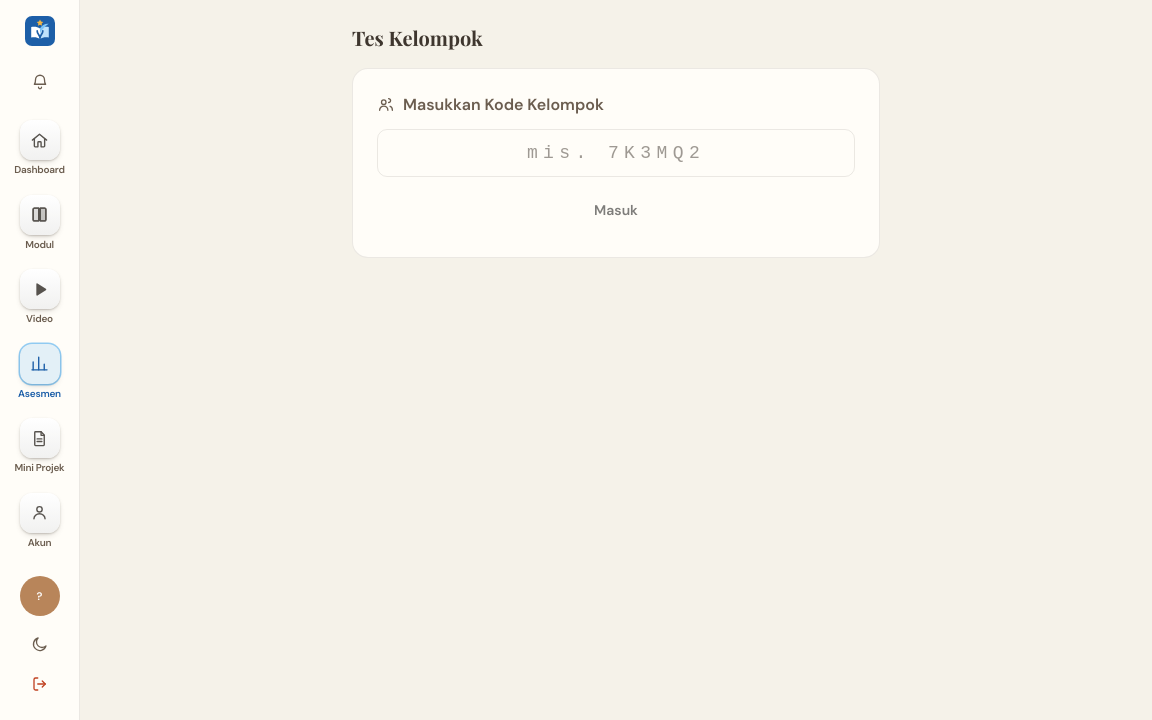
Test: TesKelompok — mahasiswa › memasukkan kode lalu melihat "Kelompok 1" dan tombol "Mulai"
The width and height of the screenshot is (1152, 720).
Type "ABCDEF" into the field with placeholder "mis. 7K3MQ2" at (616, 153), box [377, 129, 855, 177]
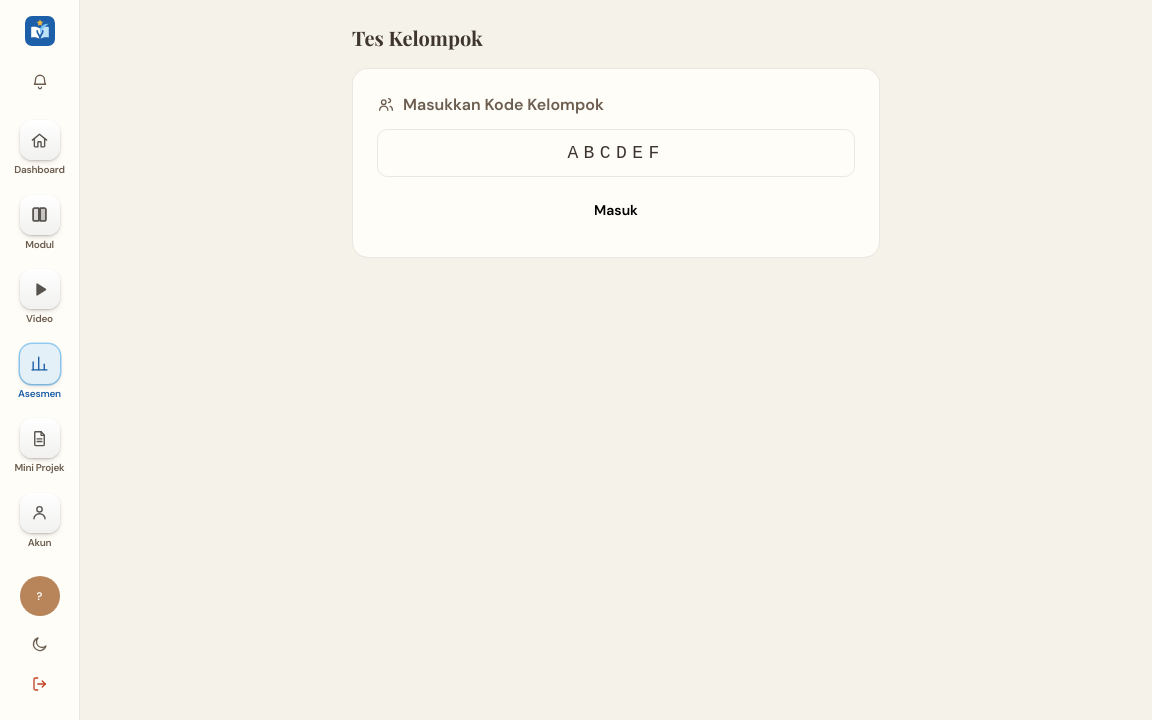
Click the button "Masuk" at (616, 211), box [377, 189, 855, 233]
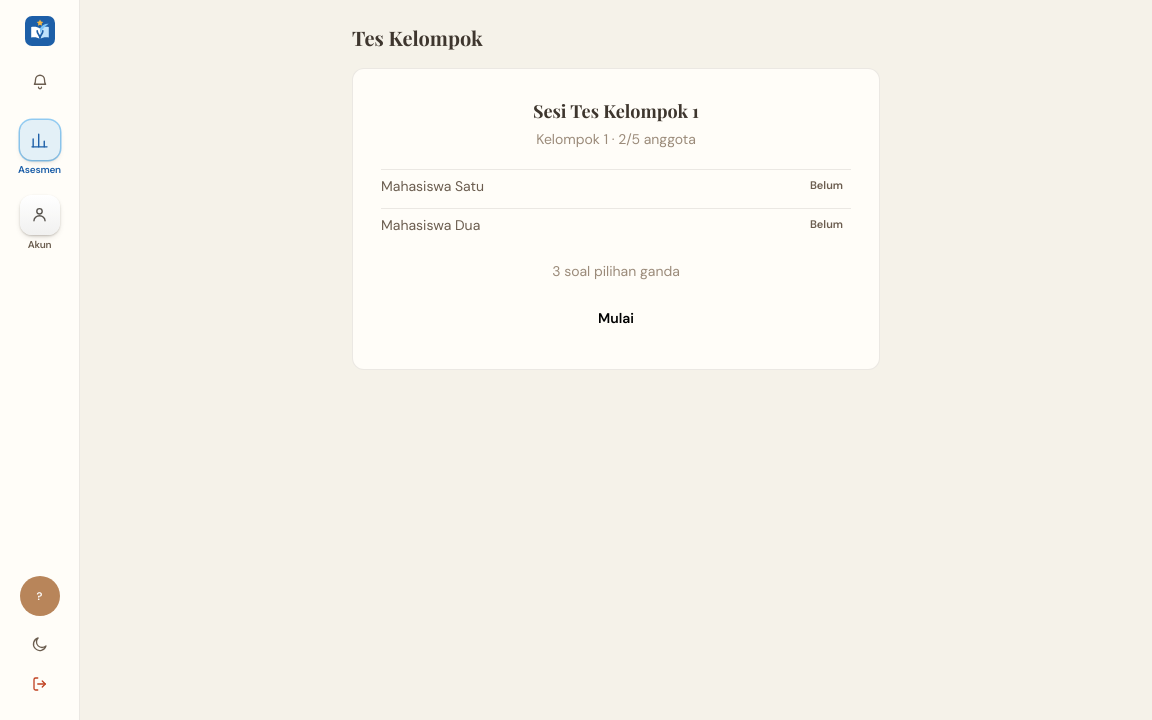
Expected: the heading "Sesi Tes Kelompok 1" is shown, [533, 99, 699, 123]
Expected: the button "Mulai" is shown, [381, 297, 851, 341]
